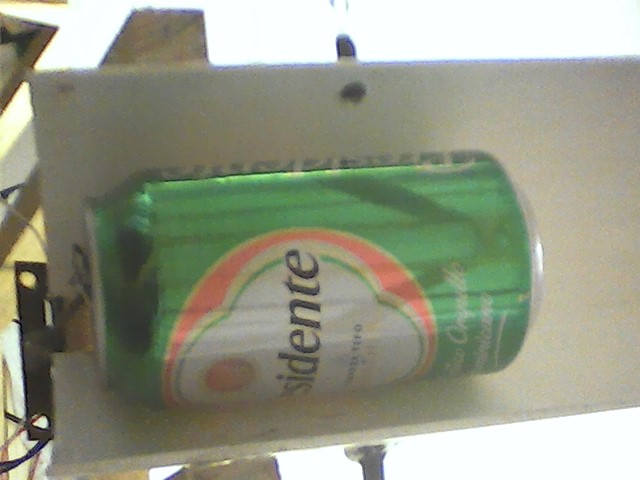lata: (84, 142, 553, 418)
